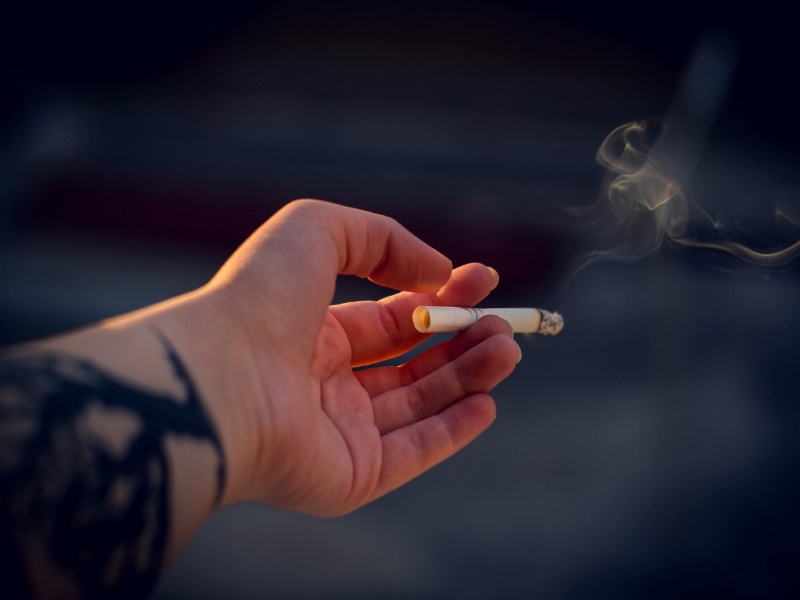smoke: (594, 132, 725, 259)
